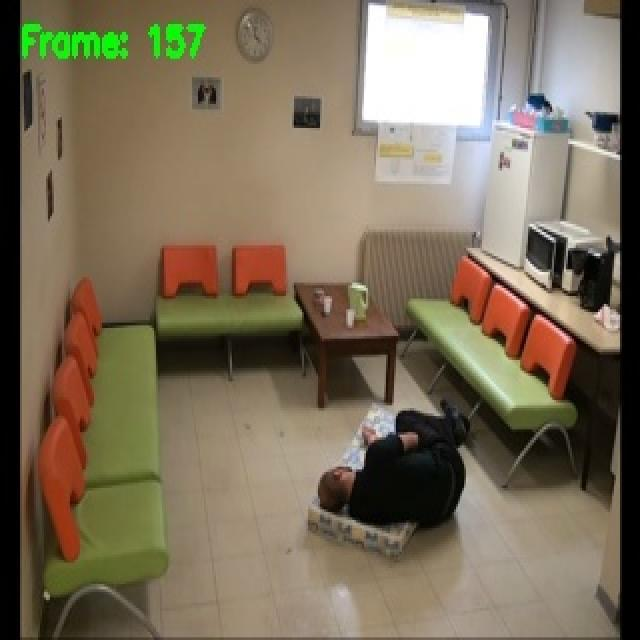fall: (312, 392, 474, 526)
